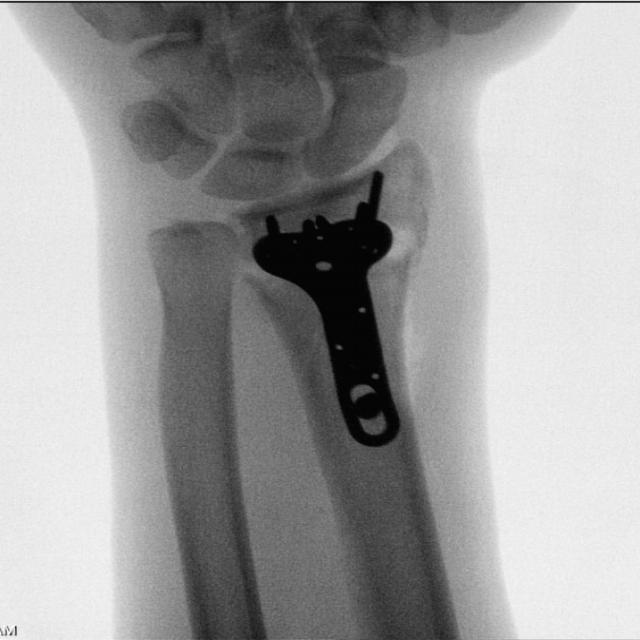x-ray: (232, 164, 425, 458)
